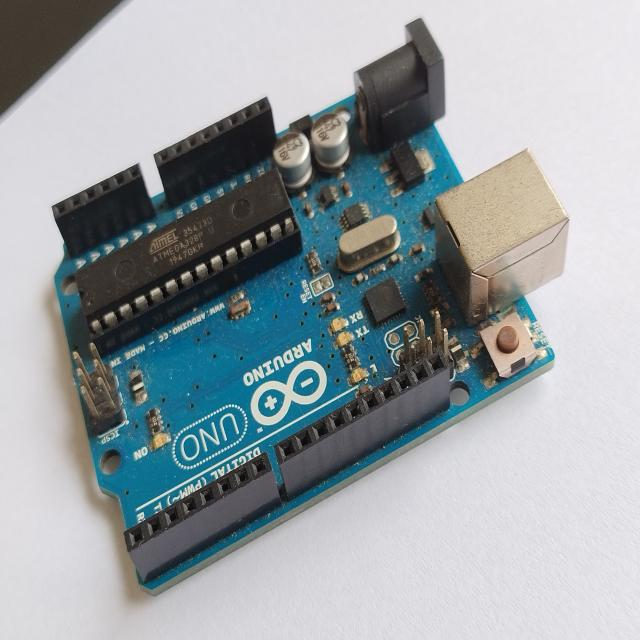arduino: (37, 23, 572, 608)
